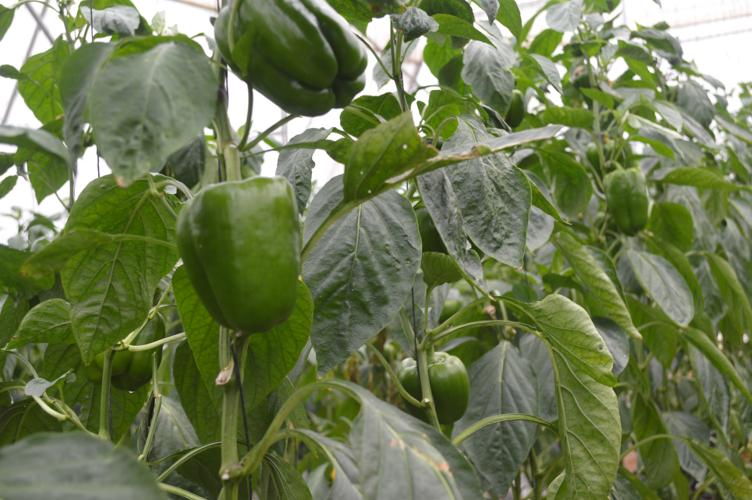BellPepper: (207, 1, 376, 127), (173, 174, 303, 335), (80, 309, 166, 396), (395, 339, 474, 430), (603, 161, 655, 237)
